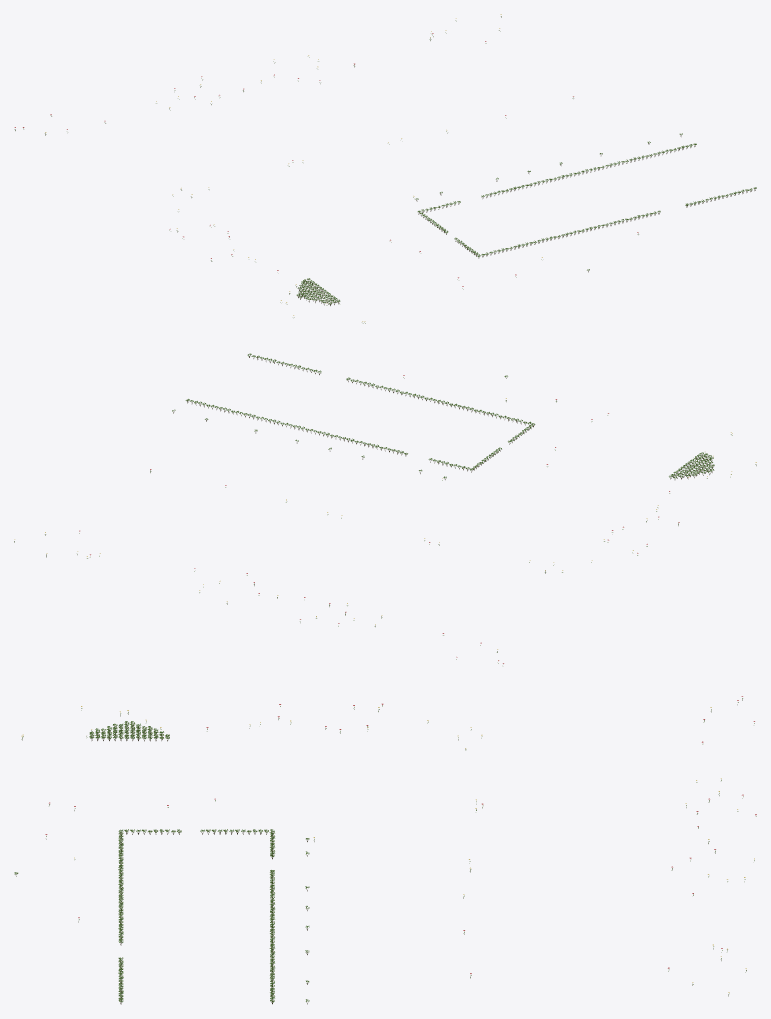
3 renders of one model, top to bottom at view 1: azimuth 30°, elevation 25°; view 2: azimuth 150°, elevation 25°; view 3: azimuth 270°, elevation 25°, orthographic. The views are drawn at different scales.
Visible parts, largest first — view 1: GROUND_FLORA_s_-5_-6; view 2: GROUND_FLORA_s_-5_-6; view 3: GROUND_FLORA_s_-5_-6.
Boxes of the visible parts, left/top/right/bottom form: GROUND_FLORA_s_-5_-6: left=14, top=14, right=756, bottom=323; GROUND_FLORA_s_-5_-6: left=14, top=353, right=756, bottom=663; GROUND_FLORA_s_-5_-6: left=14, top=696, right=756, bottom=1004.
Bounding box in the file's own units: 124 × 0.9729 × 128.
